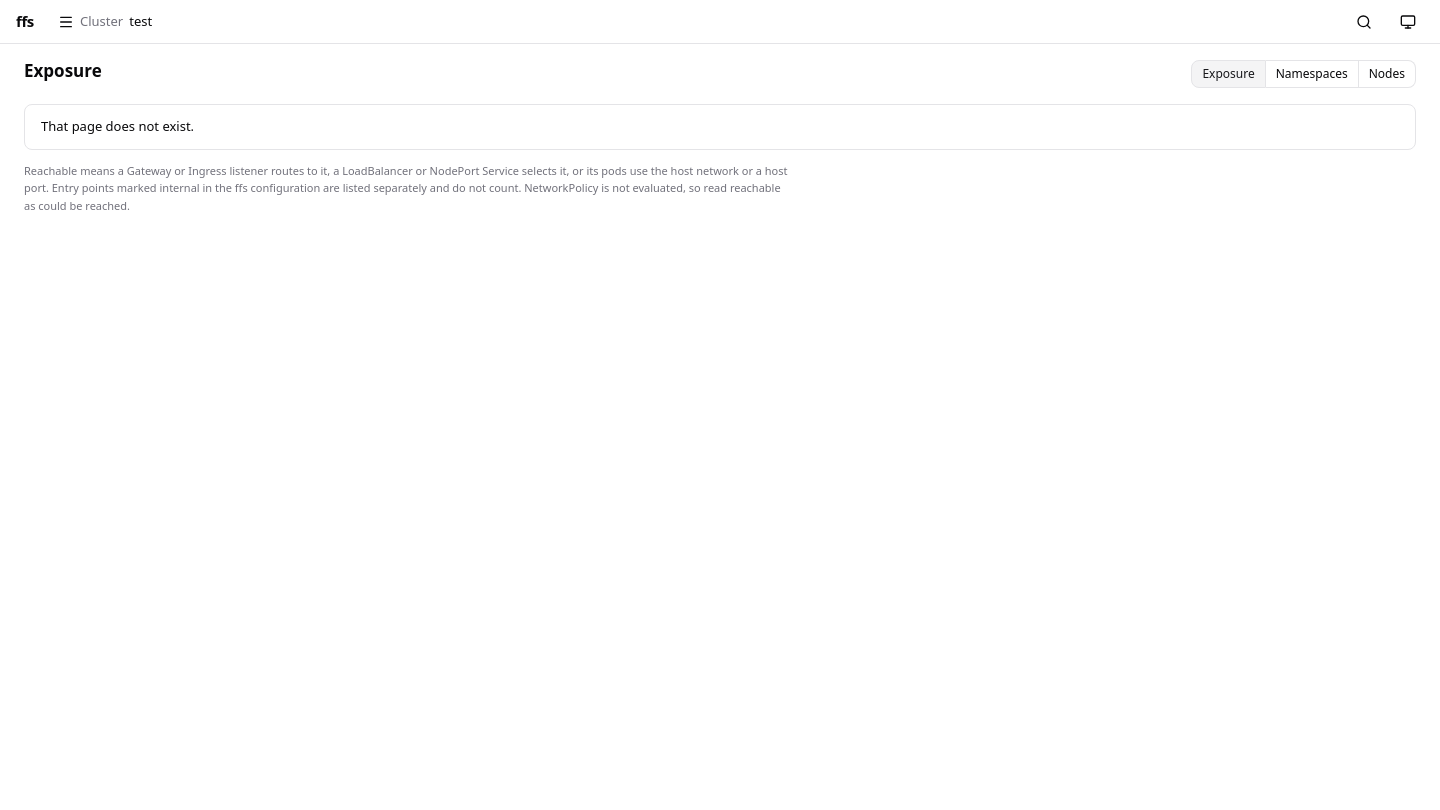
Test case: the drawer closes on any route change, not only its own links
Later steps or results of the test are not shown.
Click the button with aria-label "Open navigation" at (105, 22), box left=46, top=2, right=164, bottom=42
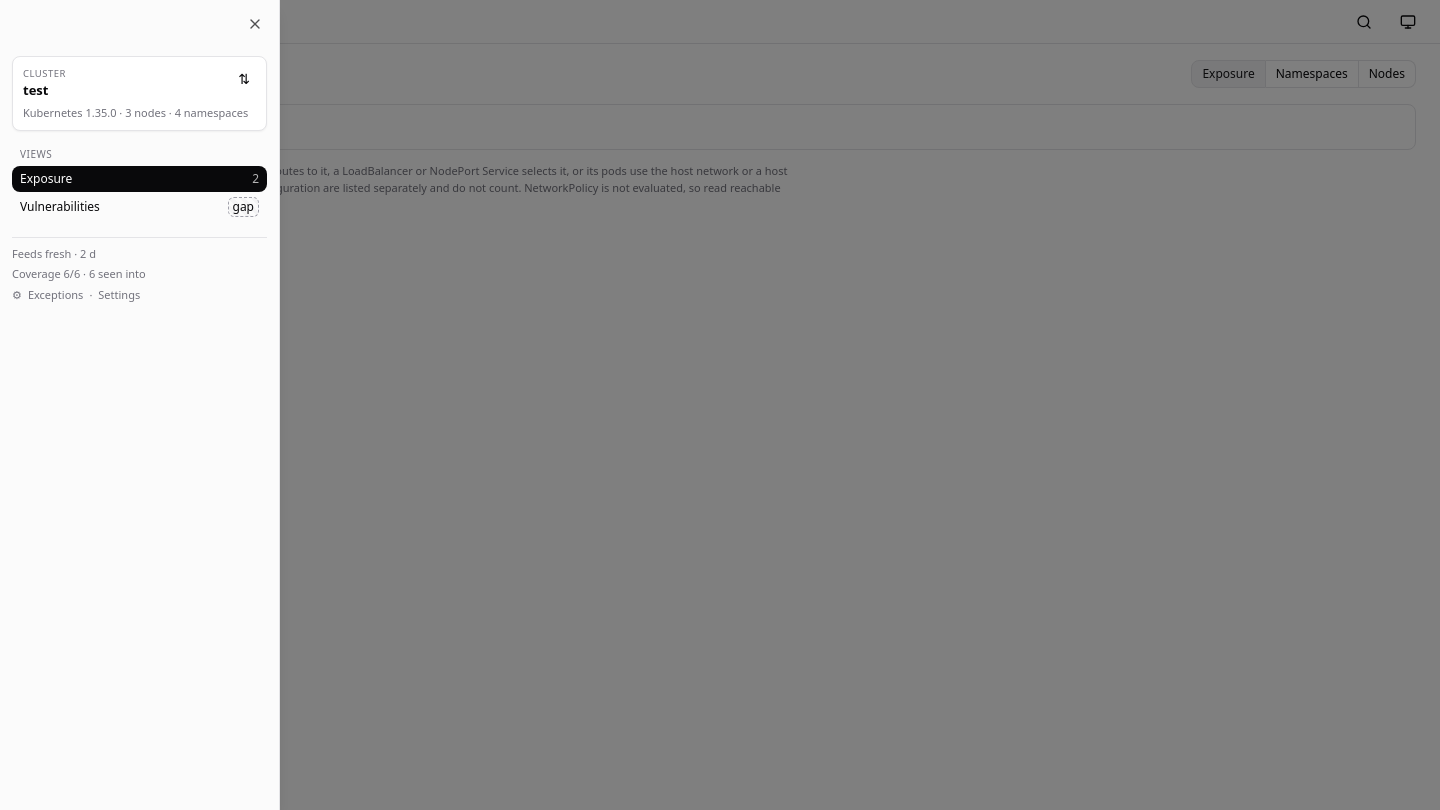
Expected: the dialog named "Navigation" is shown, left=0, top=0, right=280, bottom=809
